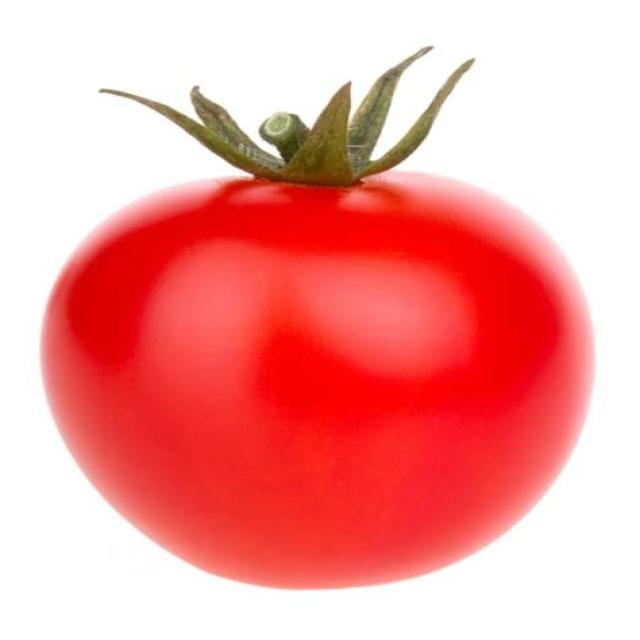Tomato: (38, 94, 598, 594)
